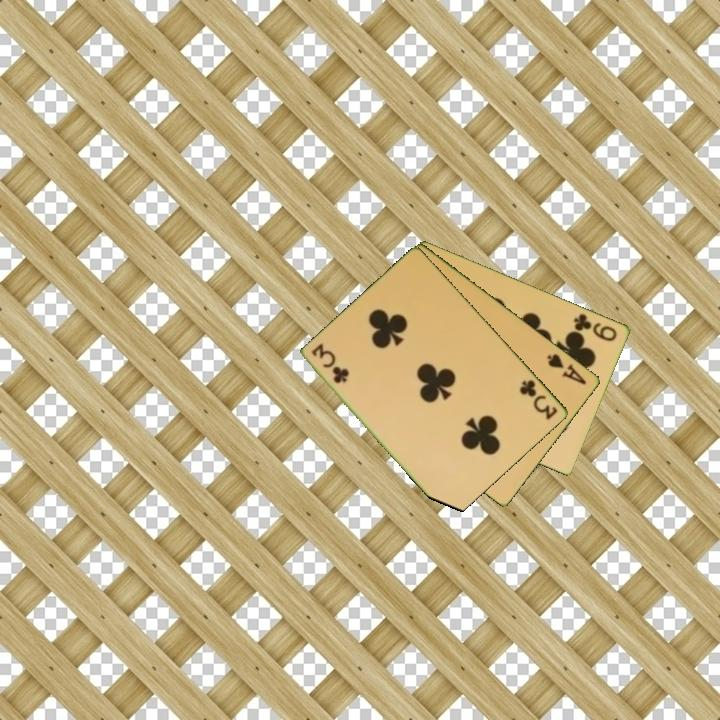3c: (516, 376, 561, 423), (308, 341, 351, 387)
9c: (570, 310, 620, 344)
As: (544, 350, 590, 388)
